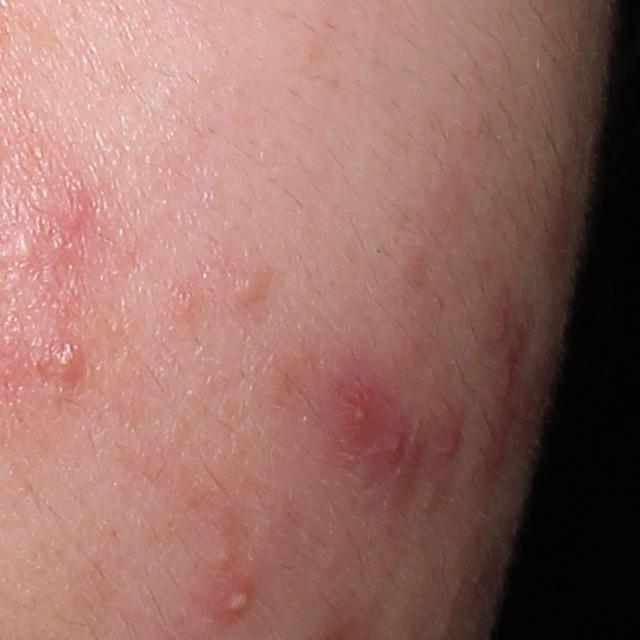comedo: (232, 264, 283, 309), (9, 229, 37, 263)
papule: (42, 336, 89, 392), (438, 429, 462, 459)
pustule: (338, 388, 380, 438), (219, 581, 258, 618)
